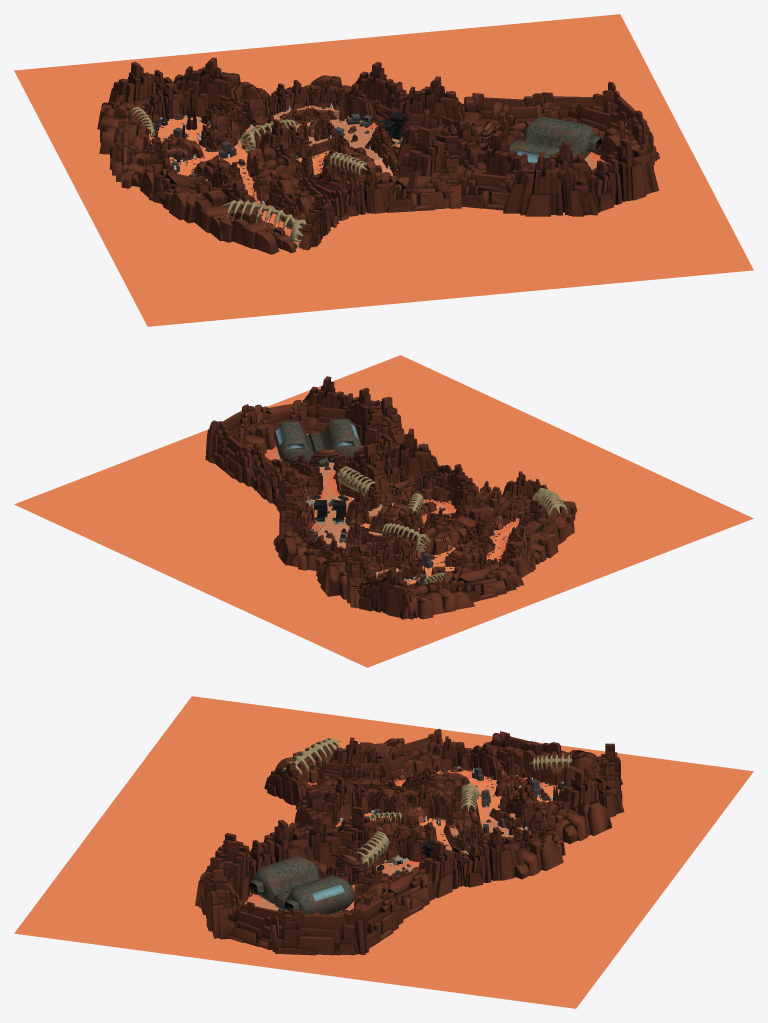
Rendered from 0_levelTutorial_new.fbx.
3 renders of one model, top to bottom at view 1: azimuth 30°, elevation 25°; view 2: azimuth 150°, elevation 25°; view 3: azimuth 270°, elevation 25°, orthographic. The views are drawn at different scales.
Visible parts, largest first — view 1: Plane, mountain_wall_2_092, mountain_wall_2_091, Cube, mountain_wall_3_066, mountain_wall_3_065, mountain_wall_2_088, mountain_wall_2_069, mountain_wall_1_064, mountain_wall_2_090, mountain_wall_2_076, mountain_wall_2_099 (+31 smaller); view 2: Plane, Cube, mountain_wall_2_076, mountain_wall_3_045, mountain_wall_1_071, mountain_wall_2_088, mountain_wall_3_071, mountain_wall_2_072, mountain_wall_3_072, mountain_wall_3_070, mountain_wall_2_086, mountain_wall_1_074 (+17 smaller); view 3: Plane, Cube, mountain_wall_3_070, mountain_wall_2_070, mountain_wall_2_085, mountain_wall_2_069, mountain_wall_2_099, mountain_wall_3_072, mountain_wall_1_074, mountain_wall_2_091, mountain_wall_3_069, mountain_wall_3_071 (+23 smaller).
Part boxes in pixels (x1,y1,x2,y2): Plane: (14,14,753,326); mountain_wall_2_092: (503,152,600,216); mountain_wall_2_091: (586,138,659,211); Cube: (509,116,602,168); mountain_wall_3_066: (380,172,453,212); mountain_wall_3_065: (456,165,515,210); mountain_wall_2_088: (398,126,447,199); mountain_wall_2_069: (391,76,464,120); mountain_wall_1_064: (217,208,279,254); mountain_wall_2_090: (341,169,392,216); mountain_wall_2_076: (108,61,176,105); mountain_wall_2_099: (173,57,240,102); Plane: (14,355,753,667); Cube: (273,418,361,470); mountain_wall_2_076: (357,567,418,619); mountain_wall_3_045: (442,564,519,602); mountain_wall_1_071: (399,583,474,619); mountain_wall_2_088: (376,428,437,478); mountain_wall_3_071: (212,423,254,486); mountain_wall_2_072: (345,443,390,503); mountain_wall_3_072: (251,443,282,506); mountain_wall_3_070: (205,404,256,463); mountain_wall_2_086: (345,387,382,445); mountain_wall_1_074: (316,560,346,599); Plane: (14,696,753,1008); Cube: (248,855,354,915); mountain_wall_3_070: (266,909,369,955); mountain_wall_2_070: (459,827,524,887); mountain_wall_2_085: (248,819,313,893); mountain_wall_2_069: (419,840,469,897); mountain_wall_2_099: (555,770,624,817); mountain_wall_3_072: (373,866,435,919); mountain_wall_1_074: (552,801,612,843); mountain_wall_2_091: (201,869,232,939); mountain_wall_3_069: (228,906,279,948); mountain_wall_3_071: (349,891,403,950).
Size of the model in its own units: 7998 by 861 by 7998.
